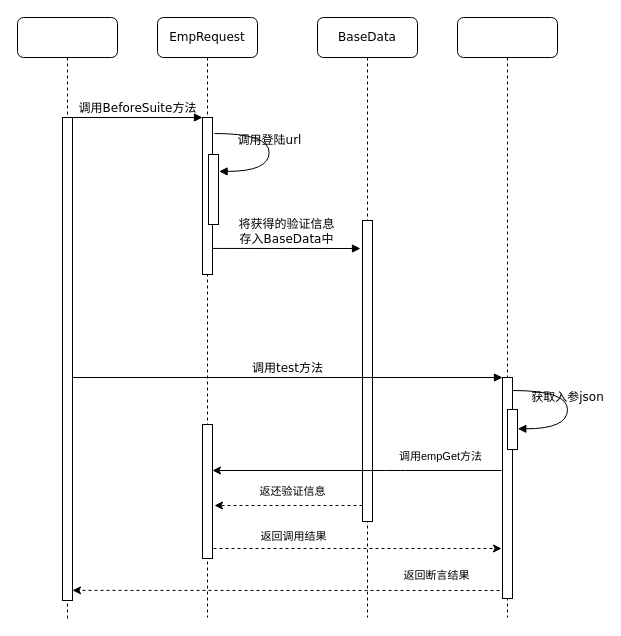
Image size: 621x636. Some labels were removed from this diagram. The shapes that lost their labels are listed below. From the top down, each one's box as (x1, y1, x2, y2) in pixels, then its label:
(16, 16, 118, 618): test.xml
(456, 16, 558, 618): test.xml包含的测试类
